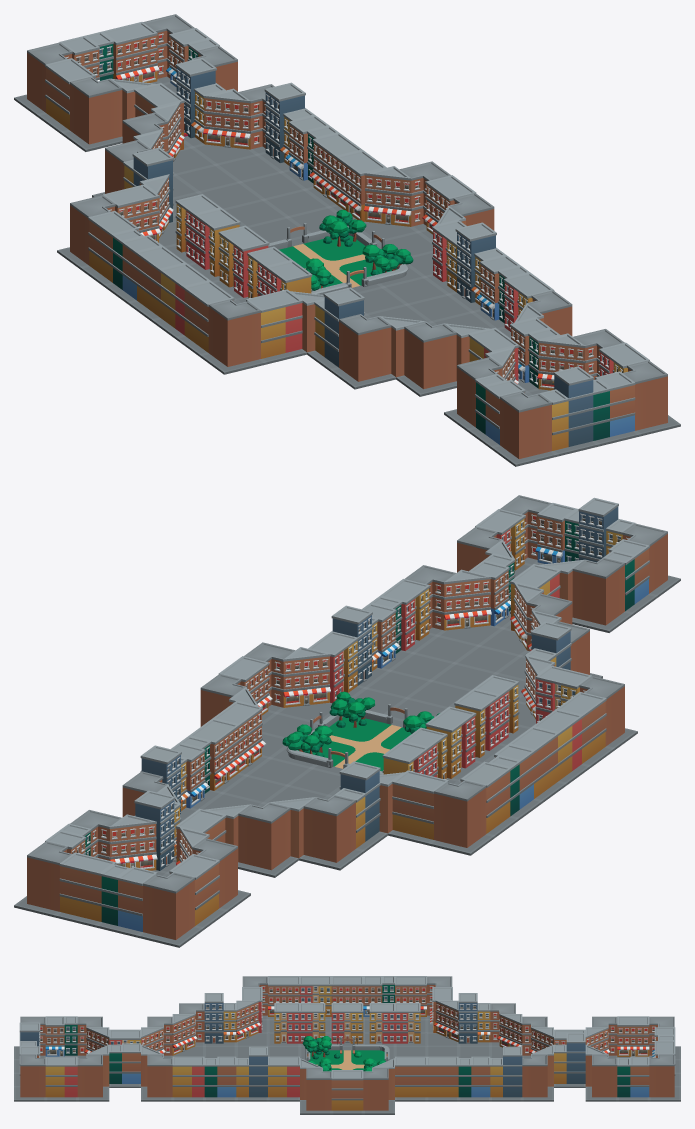
Rendered from final_city.glb.
3 views of the same model, one above another, from view 1: azimuth 30°, elevation 25°; view 2: azimuth 150°, elevation 25°; view 3: azimuth 270°, elevation 25° (orthographic). The views are drawn at different scales.
Parts seen in each view (by area): view 1: BuildingCorner_B.017, BuildingCorner_B.007, BuildingCorner_B.008, BuildingCorner_B.003, BuildingCorner_B.015, FullBuilding_A.005, BuildingCorner_A, BuildingCorner_A.003, FullBuilding_D.007, FullBuilding_C.007, FullBuilding_A, FullBuilding_B.006 (+68 smaller); view 2: BuildingCorner_B.016, BuildingCorner_B.001, BuildingCorner_B.005, BuildingCorner_B.010, BuildingCorner_B.013, BuildingCorner_A.007, BuildingCorner_A.004, FullBuilding_B.006, FullBuilding_B.009, FullBuilding_C.003, FullBuilding_A.001, BuildingCorner_B.012 (+67 smaller); view 3: FullBuilding_A, FullBuilding_A.001, FullBuilding_A.003, FullBuilding_A.002, FullBuilding_A.004, FullBuilding_D.004, FullBuilding_D.006, FullBuilding_C, FullBuilding_C.002, FullBuilding_C.004, FullBuilding_B.004, FullBuilding_B.001 (+64 smaller).
Boxes of the visible parts, x1,y1,x2,y2 form: BuildingCorner_B.017: (200,299,265,374); BuildingCorner_B.007: (331,314,395,389); BuildingCorner_B.008: (396,321,456,396); BuildingCorner_B.003: (61,76,122,151); BuildingCorner_B.015: (491,391,556,466); FullBuilding_A.005: (540,366,598,456); BuildingCorner_A: (192,88,256,164); BuildingCorner_A.003: (362,166,417,241); FullBuilding_D.007: (246,289,306,364); FullBuilding_C.007: (593,371,639,446); FullBuilding_A: (258,82,314,171); FullBuilding_B.006: (101,22,159,83); BuildingCorner_B.016: (429,780,494,855); BuildingCorner_B.001: (299,795,363,870); BuildingCorner_B.005: (238,802,298,877); BuildingCorner_B.010: (572,557,633,632); BuildingCorner_B.013: (138,872,203,947); BuildingCorner_A.007: (438,569,502,645); BuildingCorner_A.004: (277,647,331,722); FullBuilding_B.006: (55,852,116,927); FullBuilding_B.009: (388,770,448,845); FullBuilding_C.003: (96,864,157,937); FullBuilding_A.001: (334,761,387,852); BuildingCorner_B.012: (14,841,72,917); FullBuilding_A: (490,1046,522,1101); FullBuilding_A.001: (458,993,490,1046); FullBuilding_A.003: (204,993,236,1046); FullBuilding_A.002: (236,1046,267,1101); FullBuilding_A.004: (554,1033,585,1087); FullBuilding_D.004: (172,1056,204,1101); FullBuilding_D.006: (45,1056,77,1101); FullBuilding_C: (458,1056,490,1101); FullBuilding_C.002: (204,1056,236,1101); FullBuilding_C.004: (617,1056,649,1101); FullBuilding_B.004: (331,1070,363,1114); FullBuilding_B.001: (427,1056,458,1101).
Bounding box in the file's own units: 80 × 15.25 × 210.
Materials: 108 (108 with a texture image).
